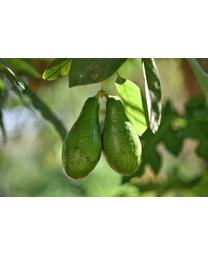avocado: (60, 96, 103, 180), (103, 95, 143, 177)
